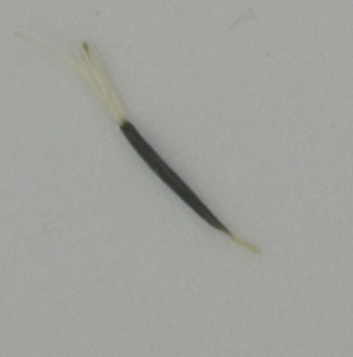เมล็ดดีเรียวยาว: (22, 17, 266, 259)
